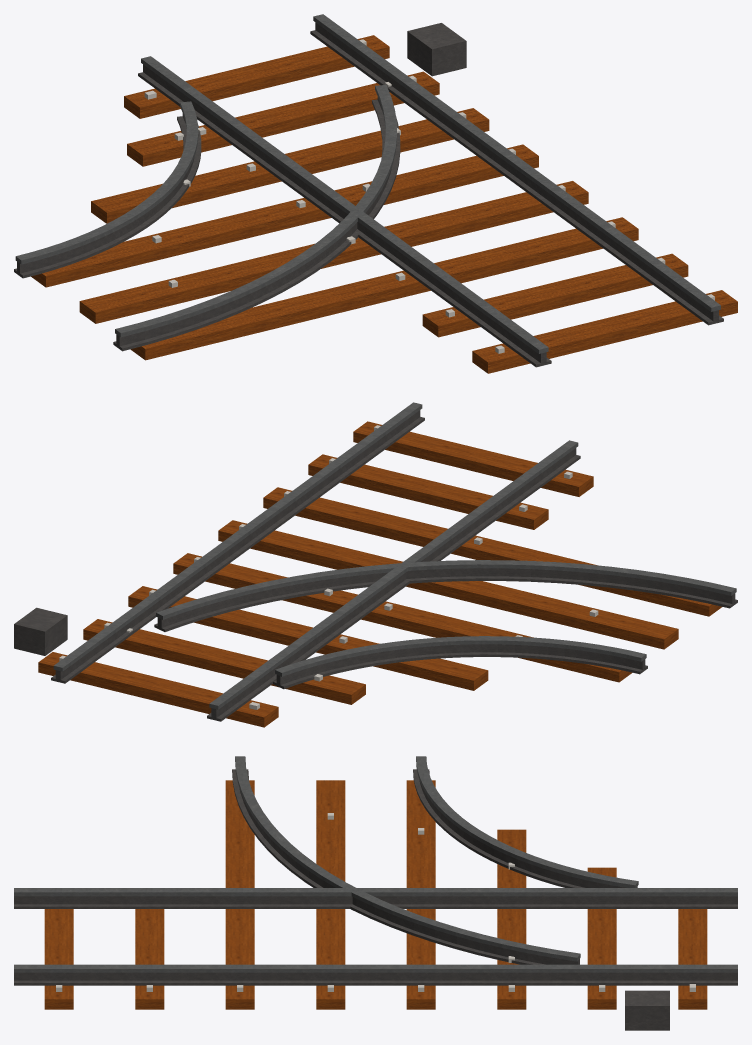
File: rail_switch_left.gltf
The picture shows the model from 3 angles, top to bottom: view 1: azimuth 30°, elevation 25°; view 2: azimuth 150°, elevation 25°; view 3: azimuth 270°, elevation 25°; orthographic projection. The views are drawn at different scales.
Bounding box in the file's own units: 6.5 × 0.3125 × 8.
4 materials, 3 textured.
